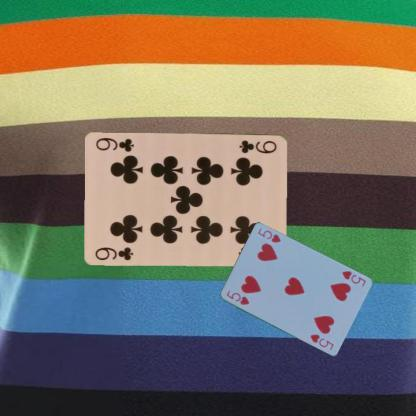5h: (339, 268, 367, 288), (224, 288, 250, 306)
9c: (92, 244, 134, 262), (237, 137, 278, 155)
